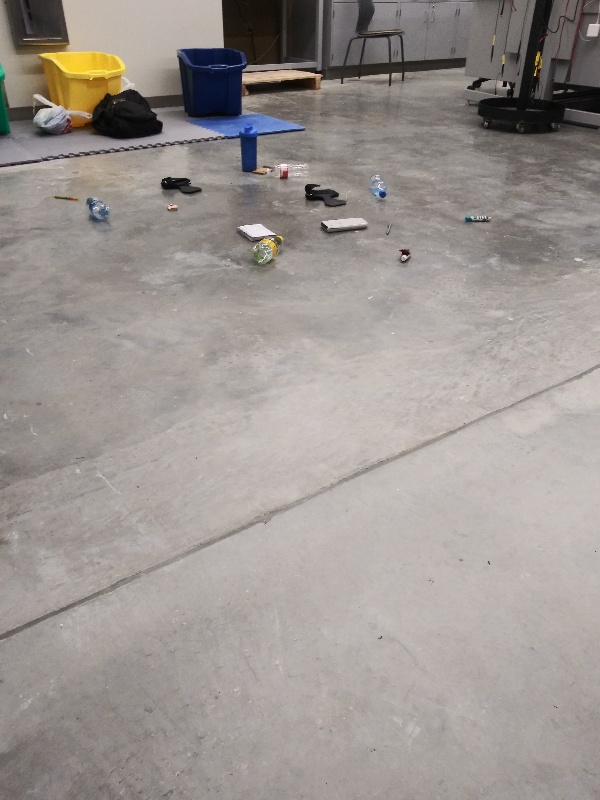bottle: (247, 234, 289, 267), (82, 193, 115, 221), (265, 161, 313, 180), (368, 173, 388, 201)
